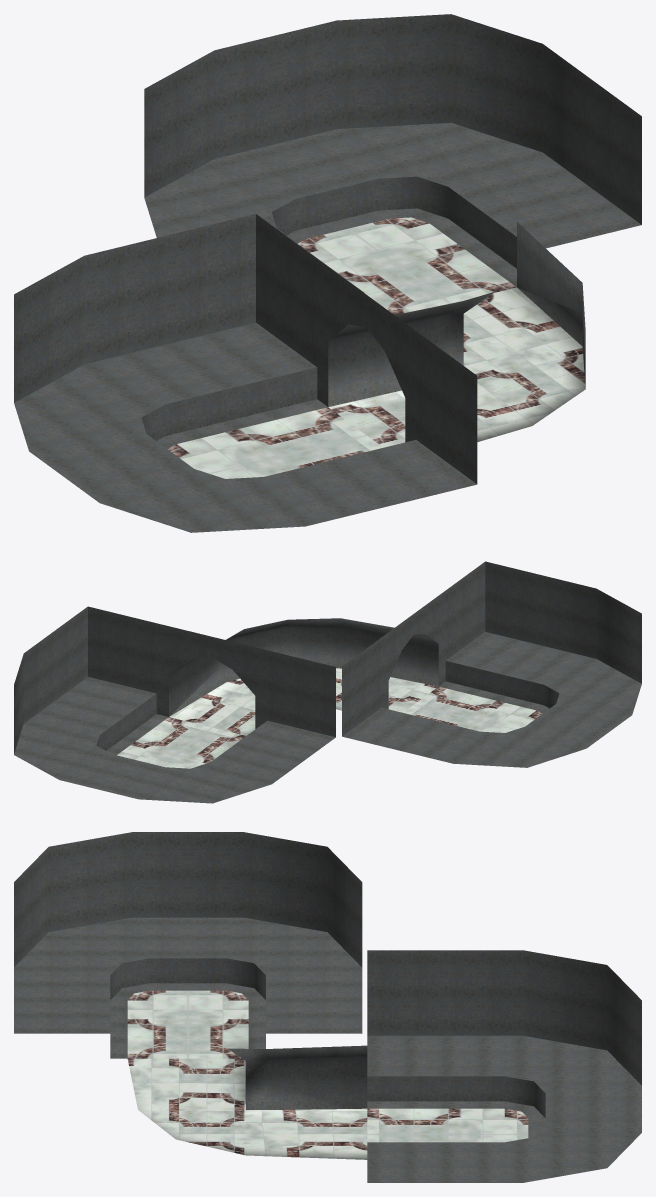
Rendered from anvil_blender_test.gltf.
The picture shows the model from 3 angles, top to bottom: view 1: azimuth 30°, elevation 25°; view 2: azimuth 150°, elevation 25°; view 3: azimuth 270°, elevation 25°; orthographic projection. The views are drawn at different scales.
Parts seen in each view (by area): view 1: level-col, level.001-col, level.002-col; view 2: level.001-col, level-col, level.002-col; view 3: level.001-col, level-col, level.002-col.
Part boxes in pixels (x1=…): level-col: x1=144, y1=14, x2=641, y2=314; level.001-col: x1=14, y1=214, x2=477, y2=532; level.002-col: x1=328, y1=222, x2=585, y2=447; level.001-col: x1=342, y1=561, x2=641, y2=767; level-col: x1=14, y1=606, x2=335, y2=803; level.002-col: x1=169, y1=618, x2=438, y2=735; level.001-col: x1=14, y1=832, x2=362, y2=1058; level-col: x1=367, y1=950, x2=641, y2=1182; level.002-col: x1=127, y1=1045, x2=367, y2=1159.
Size of the model in its own units: 40.96 by 7.95 by 40.96.
